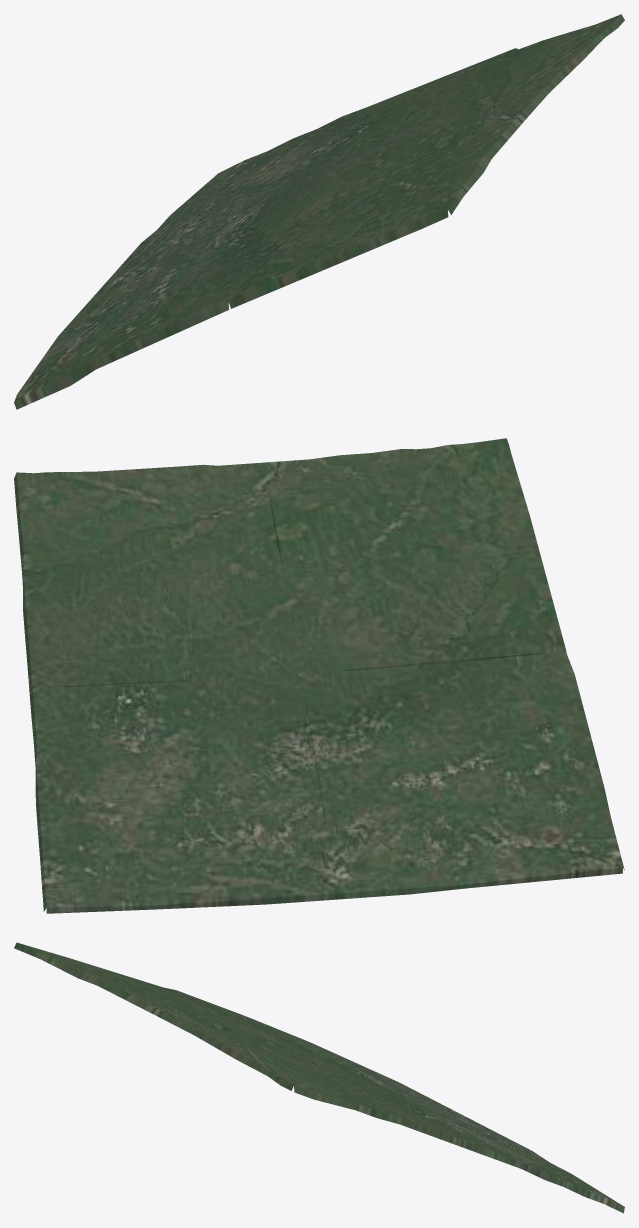
3 renders of one model, top to bottom at view 1: azimuth 30°, elevation 25°; view 2: azimuth 150°, elevation 25°; view 3: azimuth 270°, elevation 25°, orthographic. The views are drawn at different scales.
Bounding box in the file's own units: 843533 × 331722 × 828541.
1 material, 1 textured.
